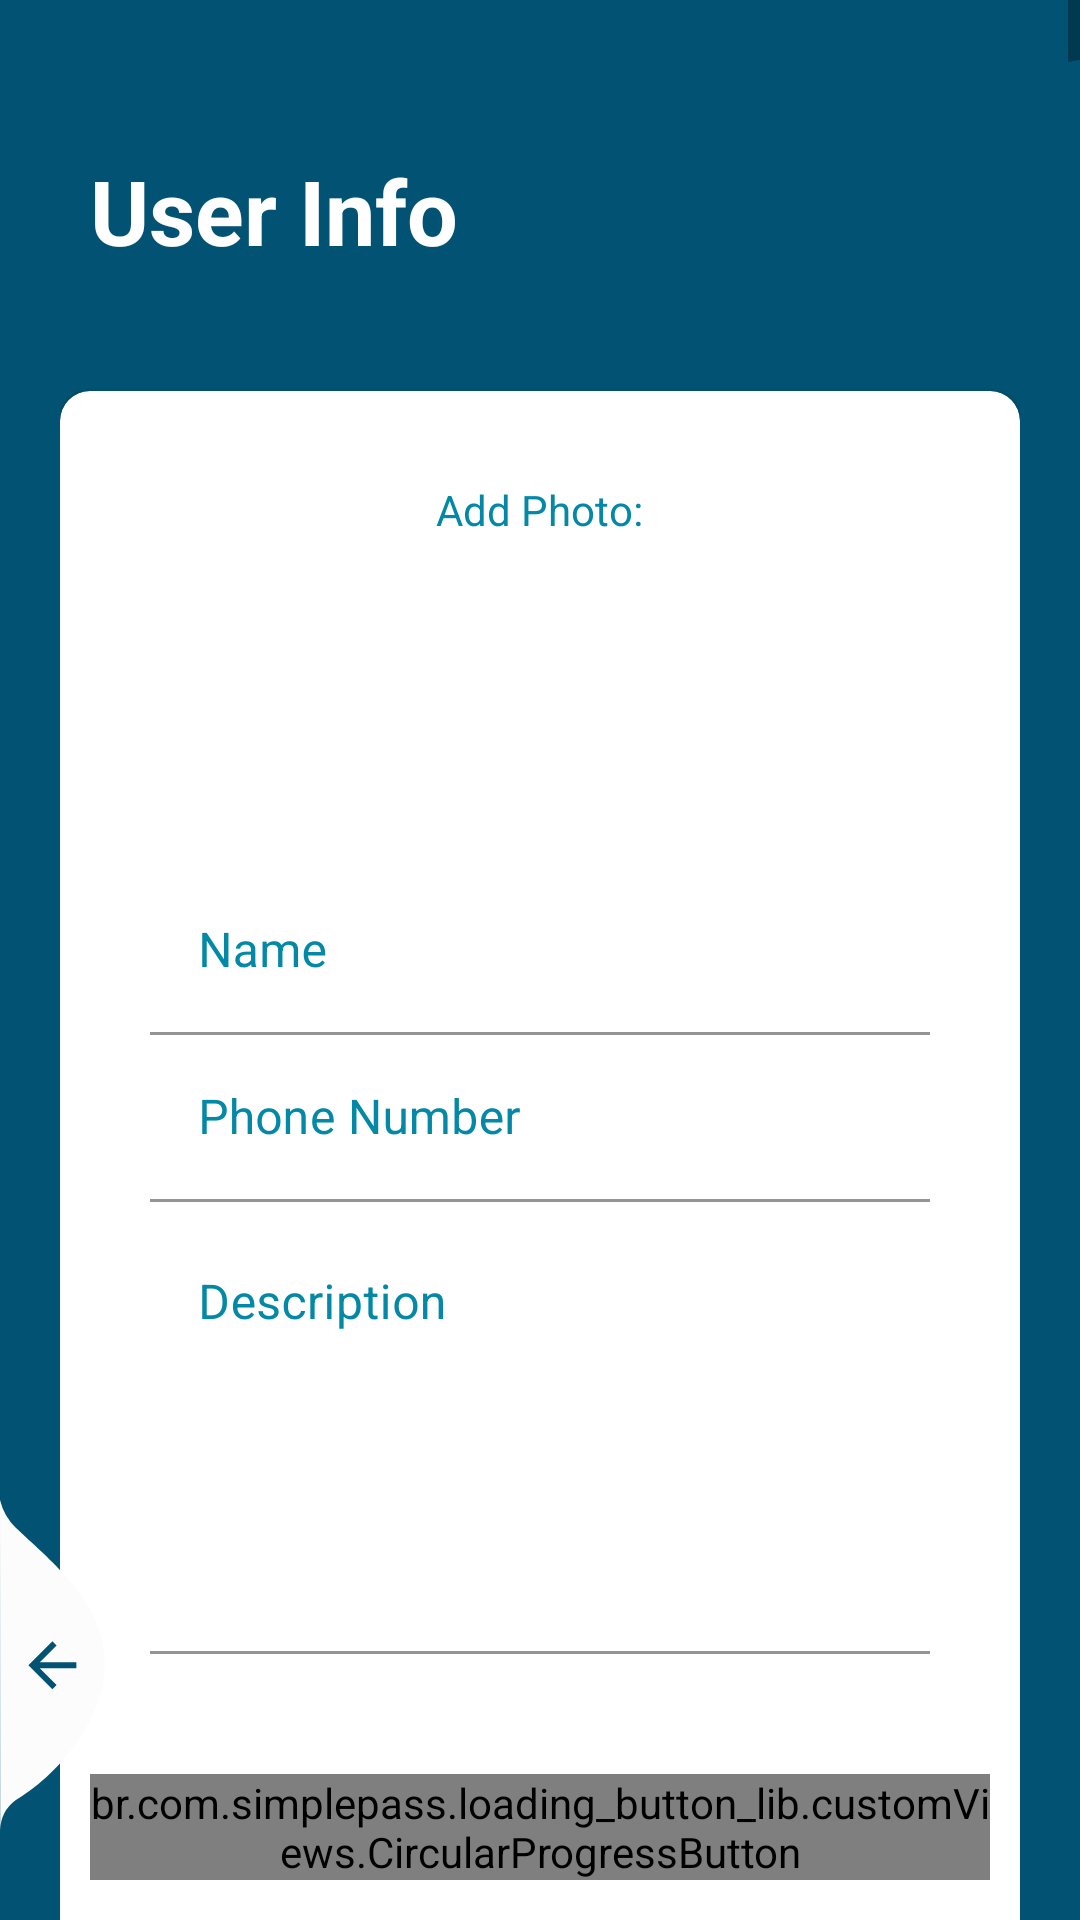

Screen size 1080x1920. Icon name, then its center in pixels as (x,y):
back: (52,1665)
